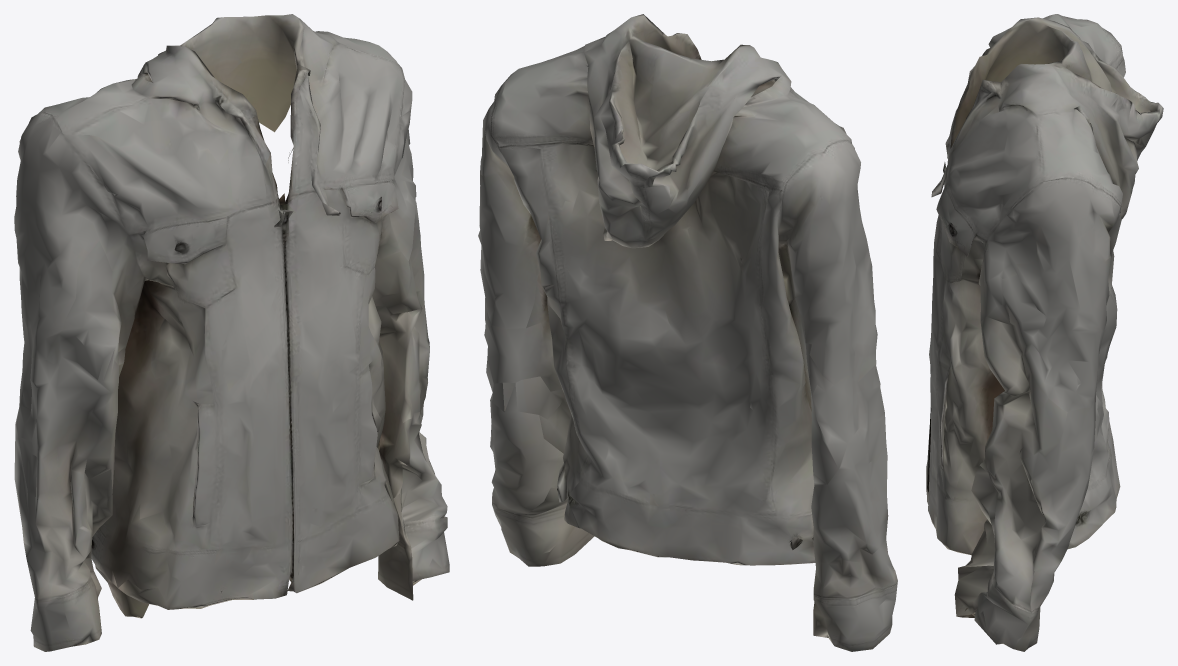
3 views of the same model, side by side, from view 1: azimuth 30°, elevation 25°; view 2: azimuth 150°, elevation 25°; view 3: azimuth 270°, elevation 25° (orthographic). The views are drawn at different scales.
Parts seen in each view (by area): view 1: tripo_node_4ff4c618-9553-46bd-989e-f265c46b2b77; view 2: tripo_node_4ff4c618-9553-46bd-989e-f265c46b2b77; view 3: tripo_node_4ff4c618-9553-46bd-989e-f265c46b2b77.
Boxes of the visible parts, x1,y1,x2,y2 form: tripo_node_4ff4c618-9553-46bd-989e-f265c46b2b77: [14, 14, 449, 651]; tripo_node_4ff4c618-9553-46bd-989e-f265c46b2b77: [478, 14, 897, 651]; tripo_node_4ff4c618-9553-46bd-989e-f265c46b2b77: [926, 14, 1163, 651].
Size of the model in its own units: 0.5688 by 0.7755 by 0.3133.
Materials: 1 (1 with a texture image).
